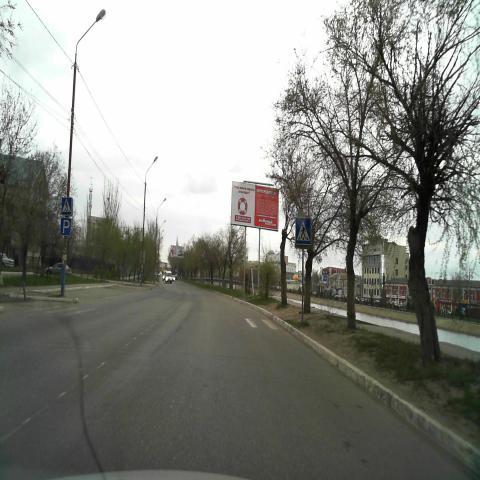5_19_1: (295, 218, 311, 245), (62, 197, 72, 214)
6_4: (60, 217, 70, 236)
